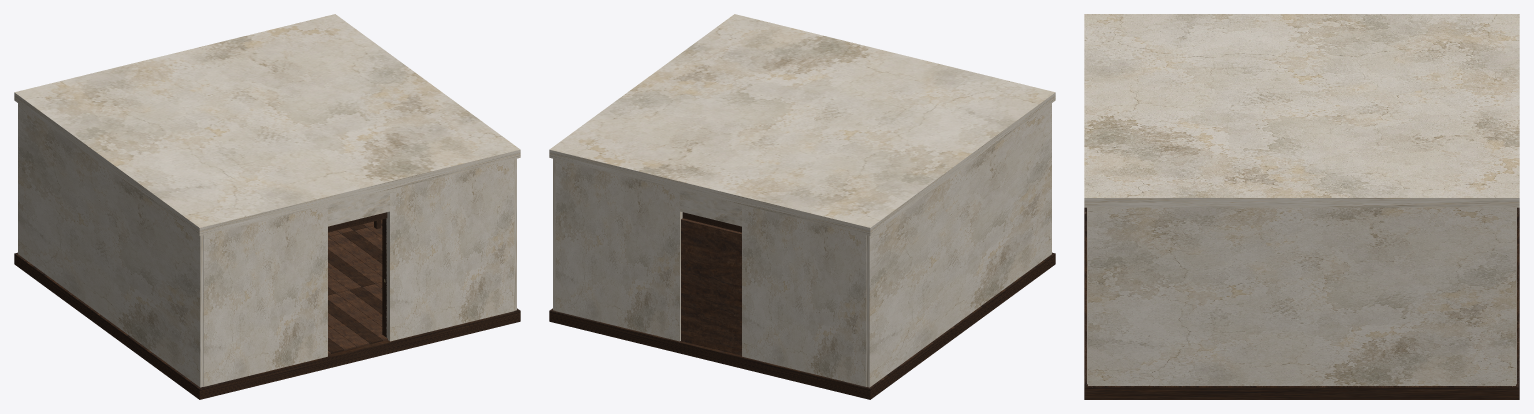
Rendered from lobby.glb.
3 views of the same model, side by side, from view 1: azimuth 30°, elevation 25°; view 2: azimuth 150°, elevation 25°; view 3: azimuth 270°, elevation 25° (orthographic). The views are drawn at different scales.
Parts seen in each view (by area): view 1: ceiling, part_72, part_111, part_108, floor, part_114, part_44, part_55, part_41, part_58, part_116, part_52 (+4 smaller); view 2: ceiling, part_72, part_101, part_98, exit_door, floor, part_104, part_85; view 3: ceiling, part_85, floor.
Boxes of the visible parts, x1=… form: ceiling: x1=14, y1=14, x2=520, y2=235; part_72: x1=18, y1=103, x2=203, y2=387; part_111: x1=386, y1=159, x2=514, y2=341; part_108: x1=203, y1=205, x2=327, y2=386; floor: x1=14, y1=252, x2=520, y2=399; part_114: x1=328, y1=189, x2=389, y2=226; part_44: x1=328, y1=293, x2=387, y2=341; part_55: x1=328, y1=237, x2=382, y2=283; part_41: x1=328, y1=300, x2=382, y2=344; part_58: x1=329, y1=234, x2=382, y2=276; part_116: x1=382, y1=218, x2=386, y2=337; part_52: x1=328, y1=250, x2=374, y2=286; ceiling: x1=549, y1=14, x2=1055, y2=235; part_72: x1=866, y1=103, x2=1051, y2=387; part_101: x1=555, y1=159, x2=682, y2=341; part_98: x1=742, y1=205, x2=866, y2=386; exit_door: x1=681, y1=218, x2=741, y2=355; floor: x1=549, y1=252, x2=1055, y2=399; part_104: x1=680, y1=189, x2=741, y2=226; part_85: x1=553, y1=158, x2=555, y2=310; ceiling: x1=1084, y1=14, x2=1519, y2=207; part_85: x1=1088, y1=207, x2=1515, y2=385; floor: x1=1084, y1=207, x2=1519, y2=399.
Bounding box in the file's own units: 6.2 × 3.18 × 6.2.
7 materials, 4 textured.
